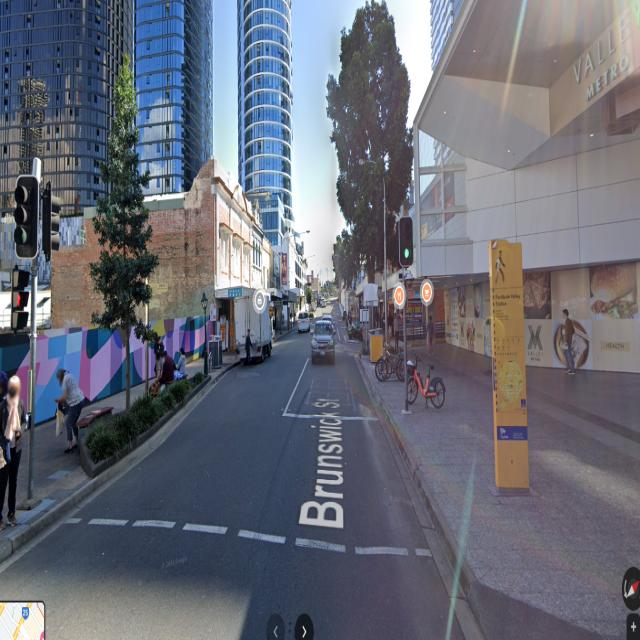light pole: (355, 157, 388, 346), (280, 228, 310, 290)
steel-pole: (27, 157, 42, 500), (399, 203, 409, 411), (383, 179, 388, 347), (280, 242, 282, 290)
streetlight: (358, 158, 385, 182), (280, 230, 311, 248)
traffic pole: (11, 157, 62, 511), (398, 202, 412, 411)
traffic-light: (12, 174, 39, 258), (42, 181, 62, 261), (12, 264, 30, 330), (398, 216, 413, 267)
